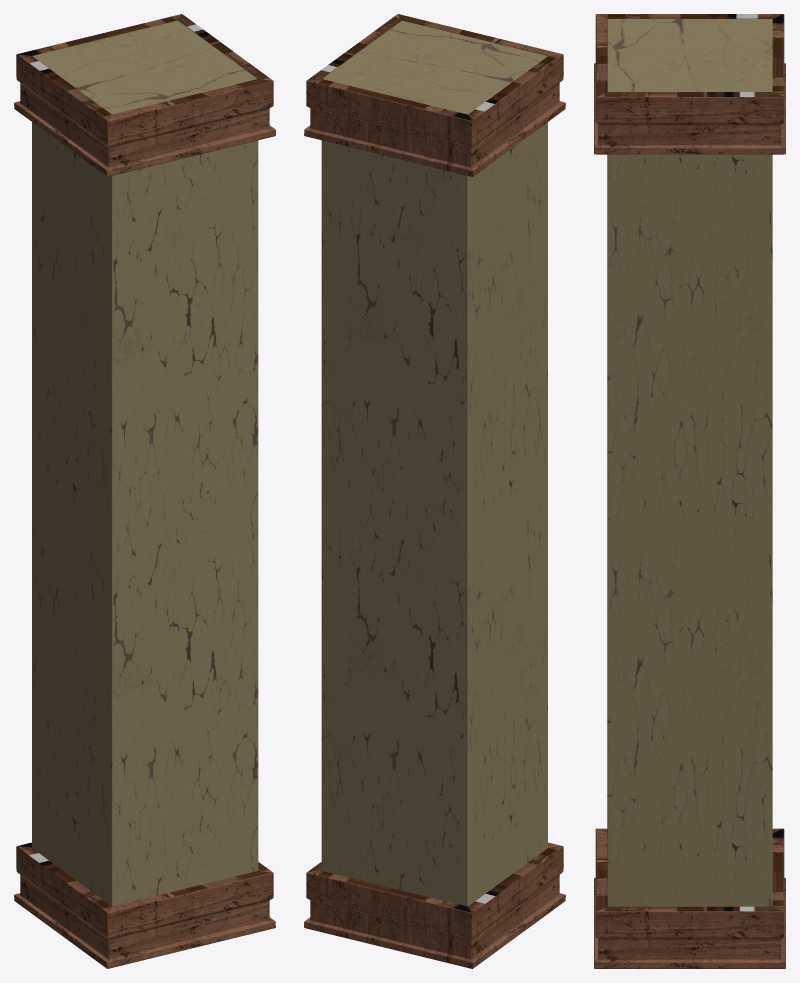
The model's file is Pillar_C.fbx.
3 views of the same model, side by side, from view 1: azimuth 30°, elevation 25°; view 2: azimuth 150°, elevation 25°; view 3: azimuth 270°, elevation 25° (orthographic). The views are drawn at different scales.
Parts seen in each view (by area): view 1: Pillar_A.001; view 2: Pillar_A.001; view 3: Pillar_A.001.
Boxes of the visible parts, left/top/right/bottom form: Pillar_A.001: left=14, top=14, right=275, bottom=968; Pillar_A.001: left=304, top=14, right=565, bottom=968; Pillar_A.001: left=594, top=14, right=785, bottom=968.
Size of the model in its own units: 0.6917 by 3.32 by 0.6617.
